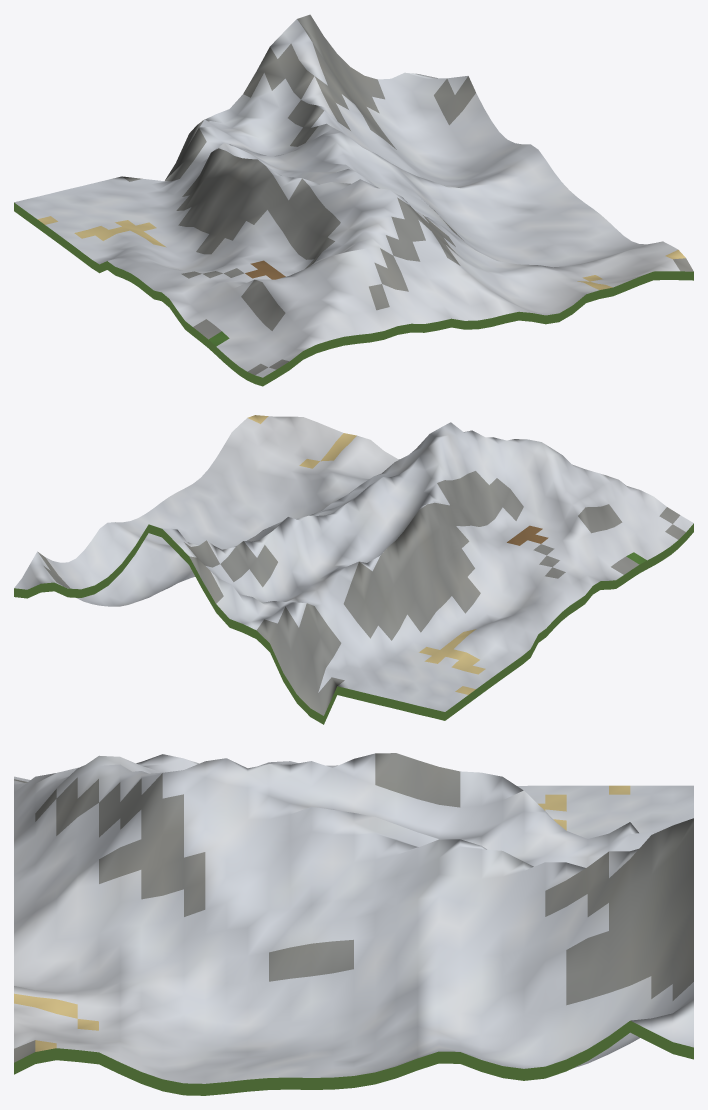
Rendered from chunk_7_2_lod1.glb.
The picture shows the model from 3 angles, top to bottom: view 1: azimuth 30°, elevation 25°; view 2: azimuth 150°, elevation 25°; view 3: azimuth 270°, elevation 25°; orthographic projection. The views are drawn at different scales.
Parts seen in each view (by area): view 1: Surface_Snow, Surface_Gravel, Skirt, Surface_Sand; view 2: Surface_Snow, Surface_Gravel, Skirt, Surface_Sand; view 3: Surface_Snow, Surface_Gravel, Skirt, Surface_Sand.
Part boxes in pixels (bbox=[...]): Surface_Snow: bbox=[14, 19, 679, 377]; Surface_Gravel: bbox=[122, 14, 693, 374]; Skirt: bbox=[14, 202, 693, 386]; Surface_Sand: bbox=[38, 216, 685, 289]; Surface_Snow: bbox=[14, 416, 693, 711]; Surface_Gravel: bbox=[38, 471, 685, 715]; Skirt: bbox=[14, 523, 693, 724]; Surface_Sand: bbox=[247, 415, 485, 694]; Surface_Snow: bbox=[14, 753, 693, 1083]; Surface_Gravel: bbox=[14, 753, 693, 1062]; Skirt: bbox=[14, 1020, 693, 1095]; Surface_Sand: bbox=[14, 785, 630, 1051].
Size of the model in its own units: 256 by 89.61 by 256.
